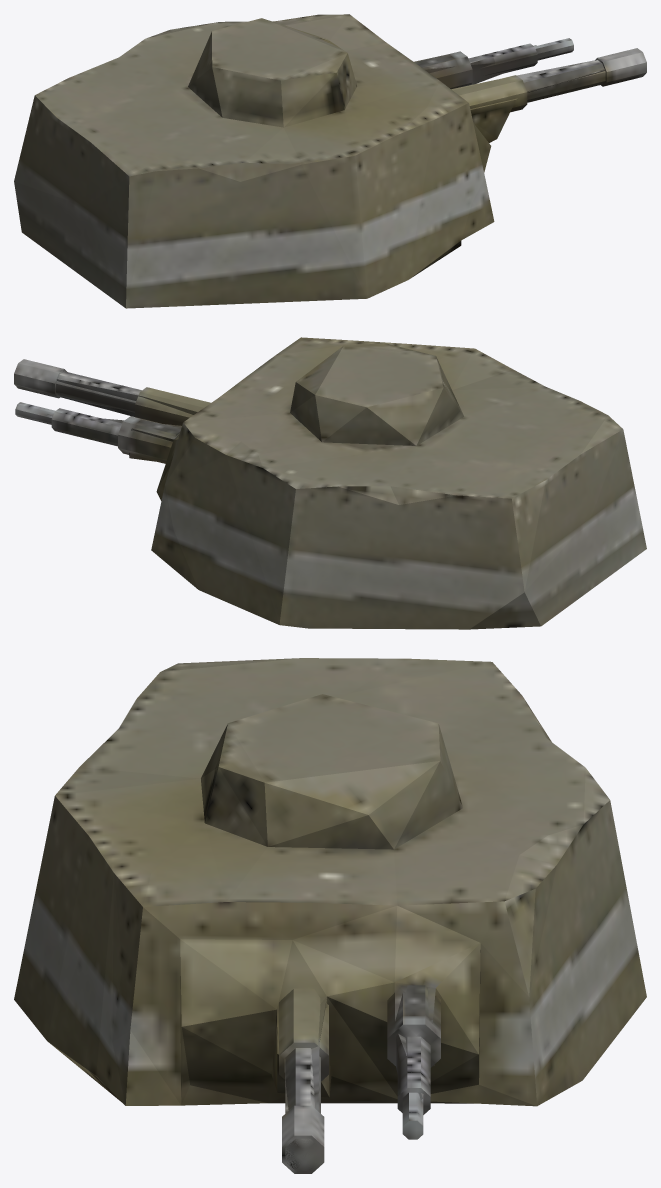
The model's file is t_only.obj.
3 views of the same model, one above another, from view 1: azimuth 30°, elevation 25°; view 2: azimuth 150°, elevation 25°; view 3: azimuth 270°, elevation 25° (orthographic). The views are drawn at different scales.
Parts seen in each view (by area): view 1: turret.obj; view 2: turret.obj; view 3: turret.obj.
Boxes of the visible parts, box(x1,y1,x2,y2) form: turret.obj: box(14, 14, 646, 308); turret.obj: box(14, 337, 646, 629); turret.obj: box(14, 658, 646, 1173).
Size of the model in its own units: 0.5199 by 0.155 by 0.3279.
1 material, 1 textured.
